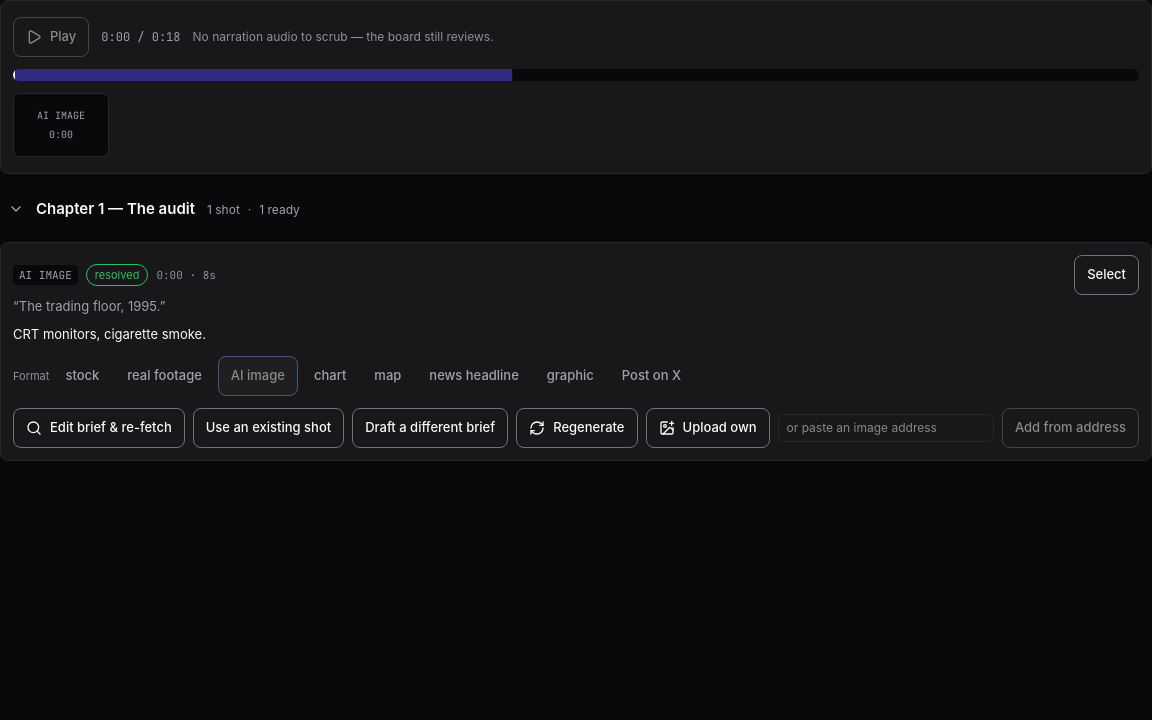
it: the model select on a shot (decision 264) › shows the stored route when there is one
Click the button "Edit brief & re-fetch" at point(99, 428), box [13,408,185,448]
(page scrolled)
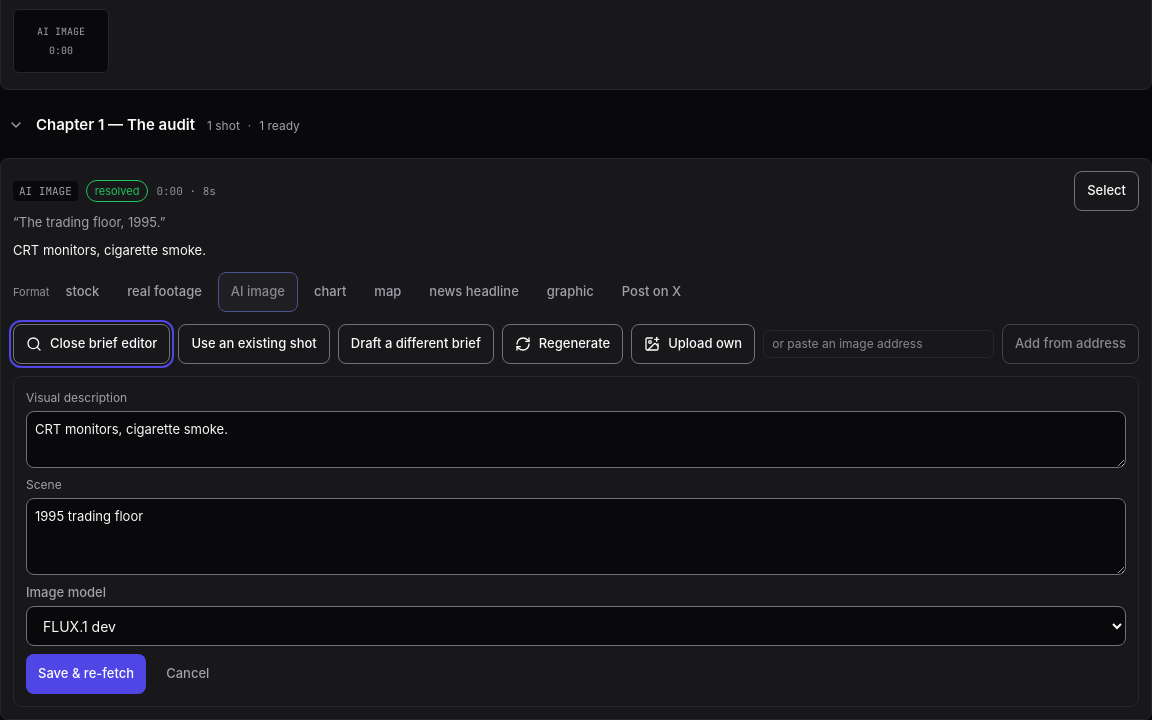
Now the dropdown labelled "Image model" shows "FLUX.1 dev", box [26,606,1126,646]
